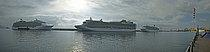Ship: (74, 16, 139, 36), (11, 17, 57, 34), (141, 23, 161, 35)
